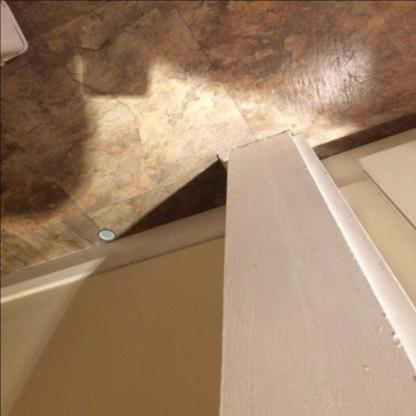Bottle: (97, 229, 115, 241)
